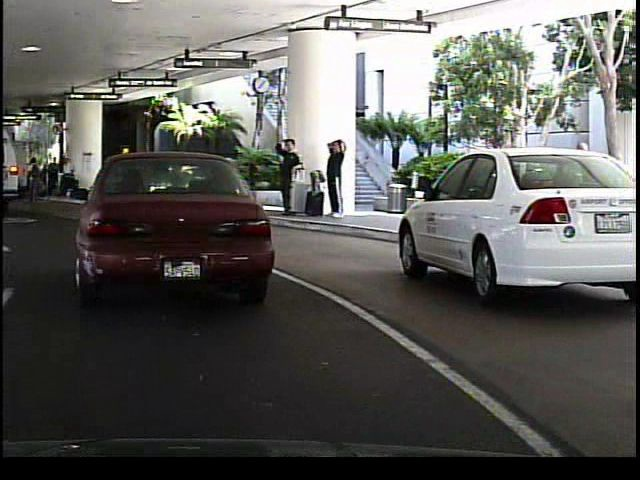person: (321, 134, 346, 220), (273, 132, 293, 216), (316, 149, 337, 215), (160, 154, 180, 196)
